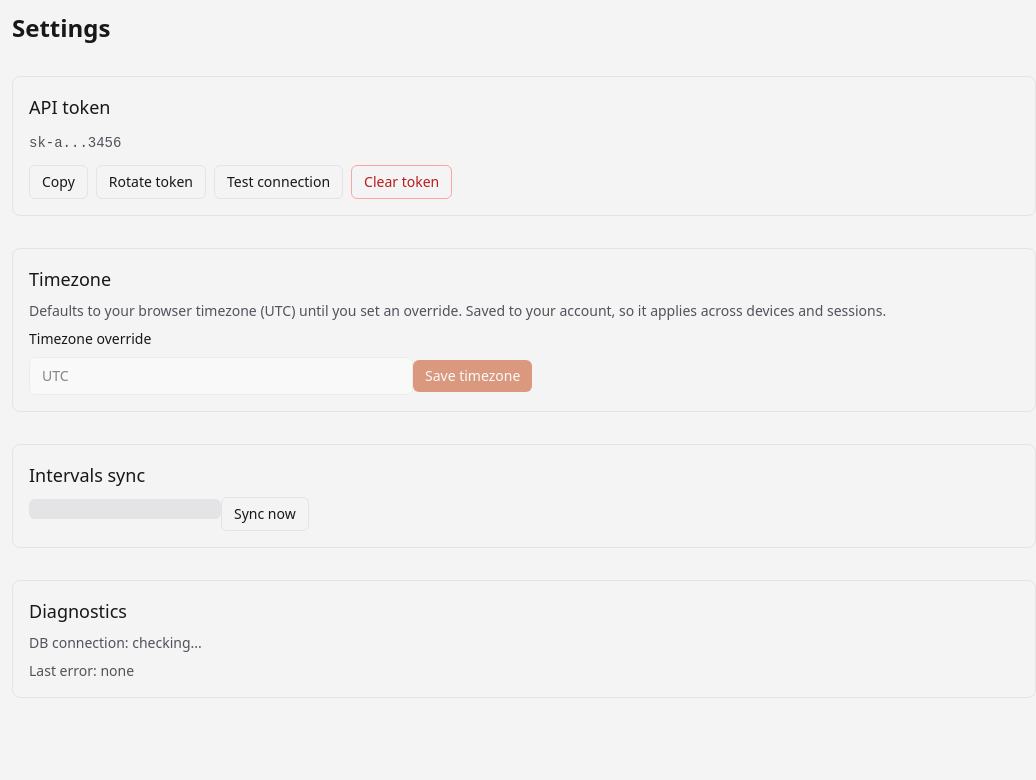
Test: SettingsPage › copies the raw token to the clipboard via the Copy button
The width and height of the screenshot is (1036, 780).
Click the button "Copy" at (58,182), box x1=29 y1=165 x2=88 y2=199
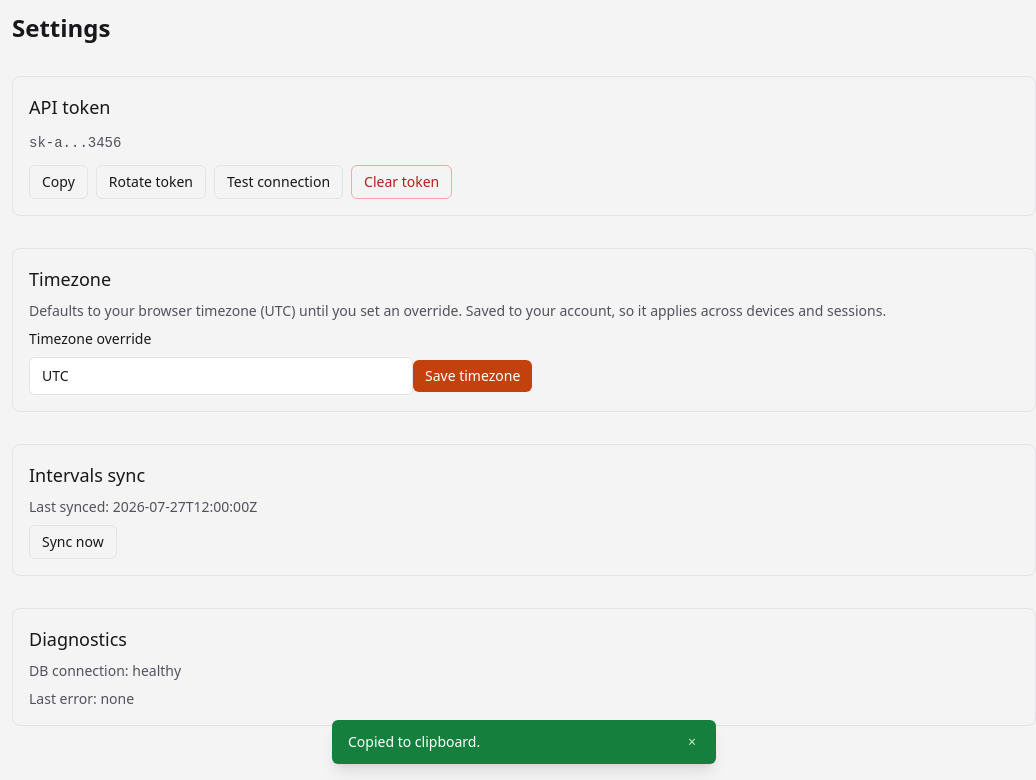
Result: the text "Copied to clipboard." is shown at x1=348 y1=732 x2=480 y2=752
